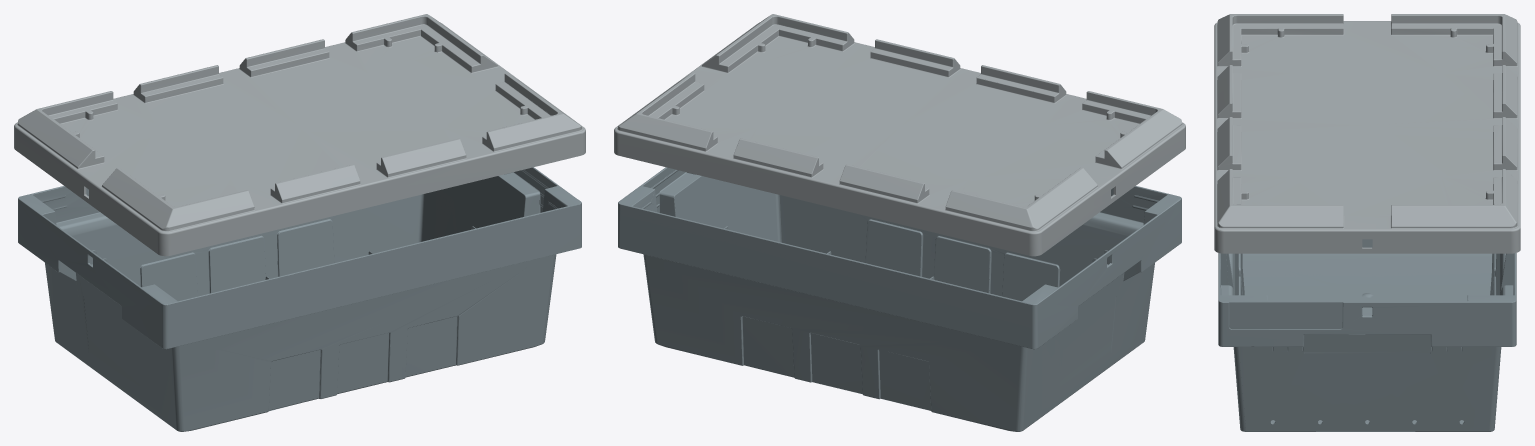
Rendered from pharmalink-caixa-pequena.glb.
The picture shows the model from 3 angles, left to right: view 1: azimuth 30°, elevation 25°; view 2: azimuth 150°, elevation 25°; view 3: azimuth 270°, elevation 25°; orthographic projection.
Visible parts, largest first — view 1: caixa, tampa; view 2: caixa, tampa; view 3: tampa, caixa.
Boxes of the visible parts, x1,y1,x2,y2 form: caixa: [18, 167, 581, 431]; tampa: [14, 14, 585, 256]; caixa: [618, 167, 1181, 431]; tampa: [614, 14, 1185, 256]; tampa: [1214, 14, 1520, 253]; caixa: [1218, 239, 1516, 431].
Size of the model in its own units: 0.499 by 0.2588 by 0.308.
